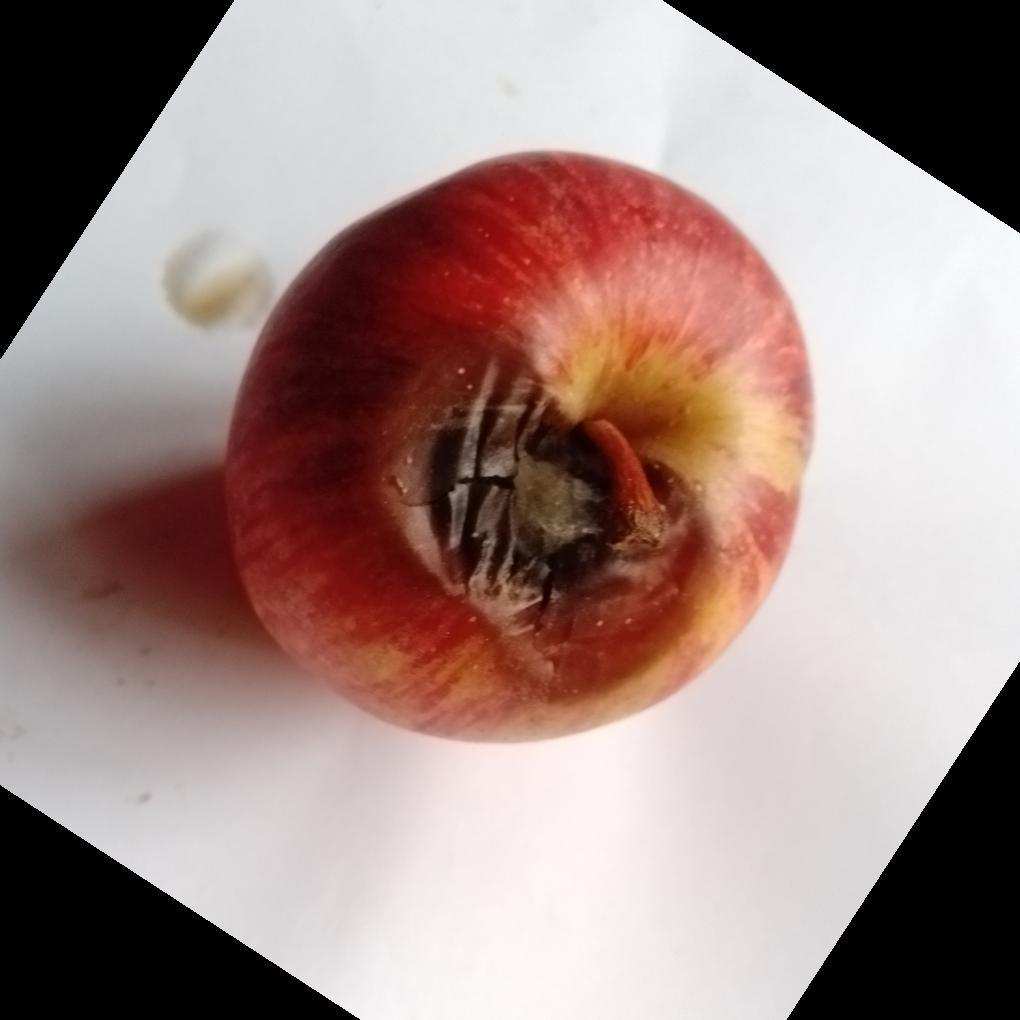FreshOrange: (219, 149, 817, 750)
